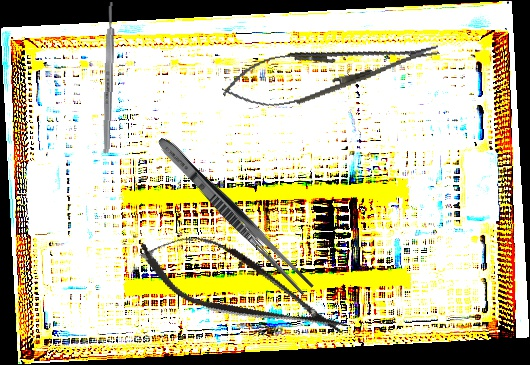Dressing Forceps: (152, 132, 317, 298)
Micro Scissor: (128, 215, 358, 360)
Needle Holder: (217, 24, 445, 119)
Scalpel Handle: (101, 1, 116, 154)
